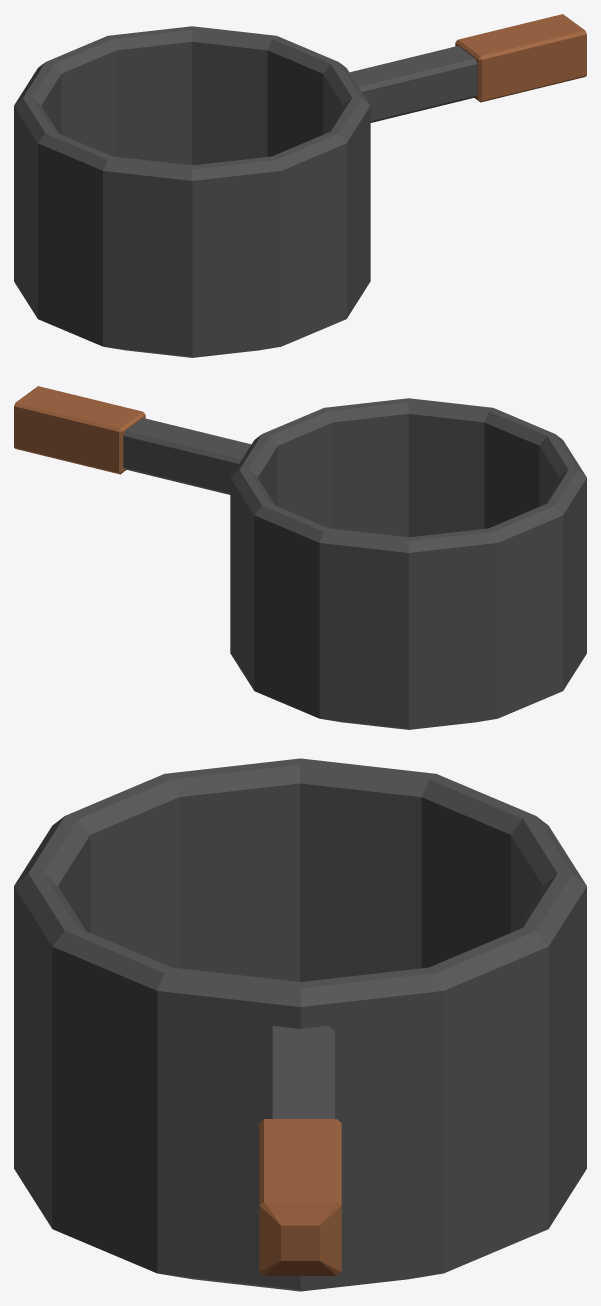
The model's file is Pot.glb.
3 views of the same model, one above another, from view 1: azimuth 30°, elevation 25°; view 2: azimuth 150°, elevation 25°; view 3: azimuth 270°, elevation 25° (orthographic). The views are drawn at different scales.
Parts seen in each view (by area): view 1: Pot; view 2: Pot; view 3: Pot.
Part boxes in pixels (<box>): Pot: <box>14,14,586,357</box>; Pot: <box>14,386,586,729</box>; Pot: <box>14,758,586,1291</box>.
Bounding box in the file's own units: 176 × 62.98 × 100.
